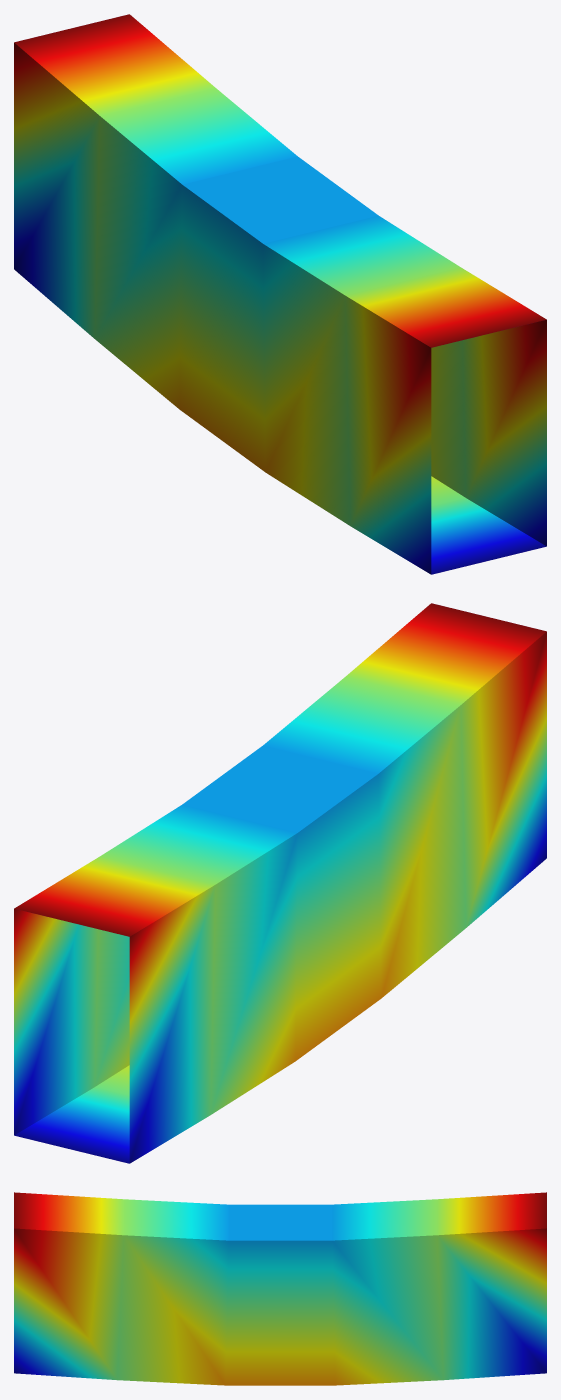
File: beamcomp.glb
3 renders of one model, top to bottom at view 1: azimuth 30°, elevation 25°; view 2: azimuth 150°, elevation 25°; view 3: azimuth 270°, elevation 25°, orthographic. The views are drawn at different scales.
Parts seen in each view (by area): view 1: Grossbruecken_sem01_loesung_hull_lc1_ampFactor2000; view 2: Grossbruecken_sem01_loesung_hull_lc1_ampFactor2000; view 3: Grossbruecken_sem01_loesung_hull_lc1_ampFactor2000.
Part boxes in pixels (<box>): Grossbruecken_sem01_loesung_hull_lc1_ampFactor2000: <box>14,14,546,574</box>; Grossbruecken_sem01_loesung_hull_lc1_ampFactor2000: <box>14,603,546,1163</box>; Grossbruecken_sem01_loesung_hull_lc1_ampFactor2000: <box>14,1192,546,1385</box>.
Size of the model in its own units: 0.7999 by 1.63 by 5.
1 material, 1 textured.
